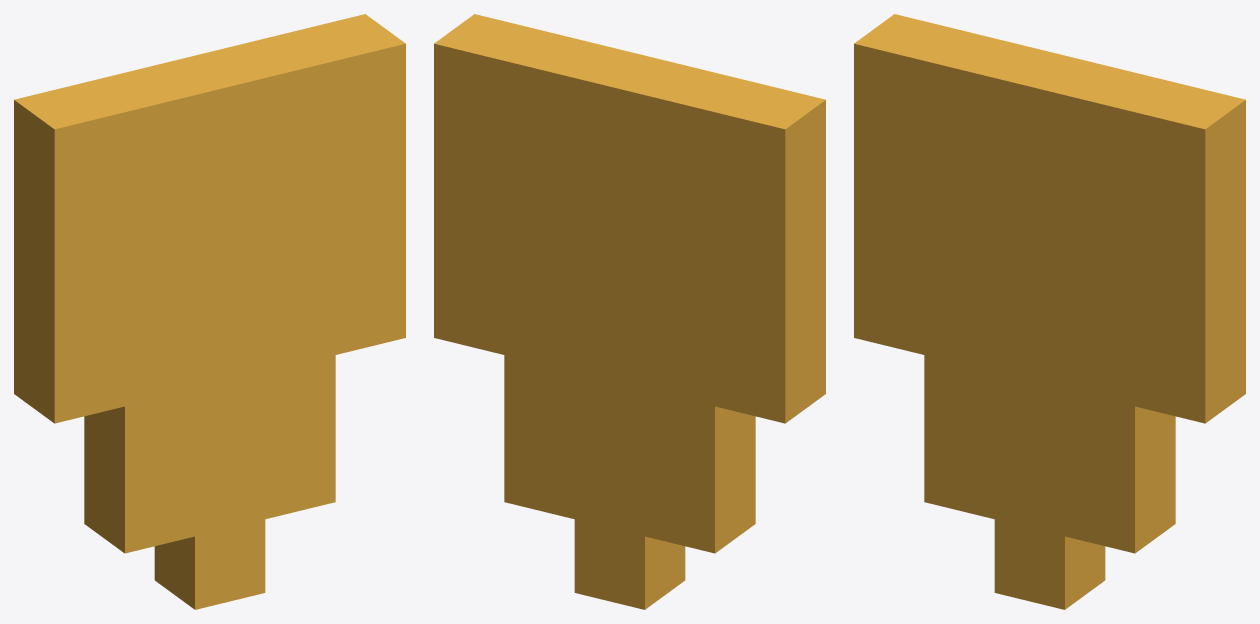
Rendered from Shield-Small-Orange.vox.obj.
The picture shows the model from 3 angles, left to right: view 1: azimuth 30°, elevation 25°; view 2: azimuth 150°, elevation 25°; view 3: azimuth 330°, elevation 25°; orthographic projection.
Size of the model in its own units: 0.5 by 0.7 by 0.1.
1 material, 1 textured.
